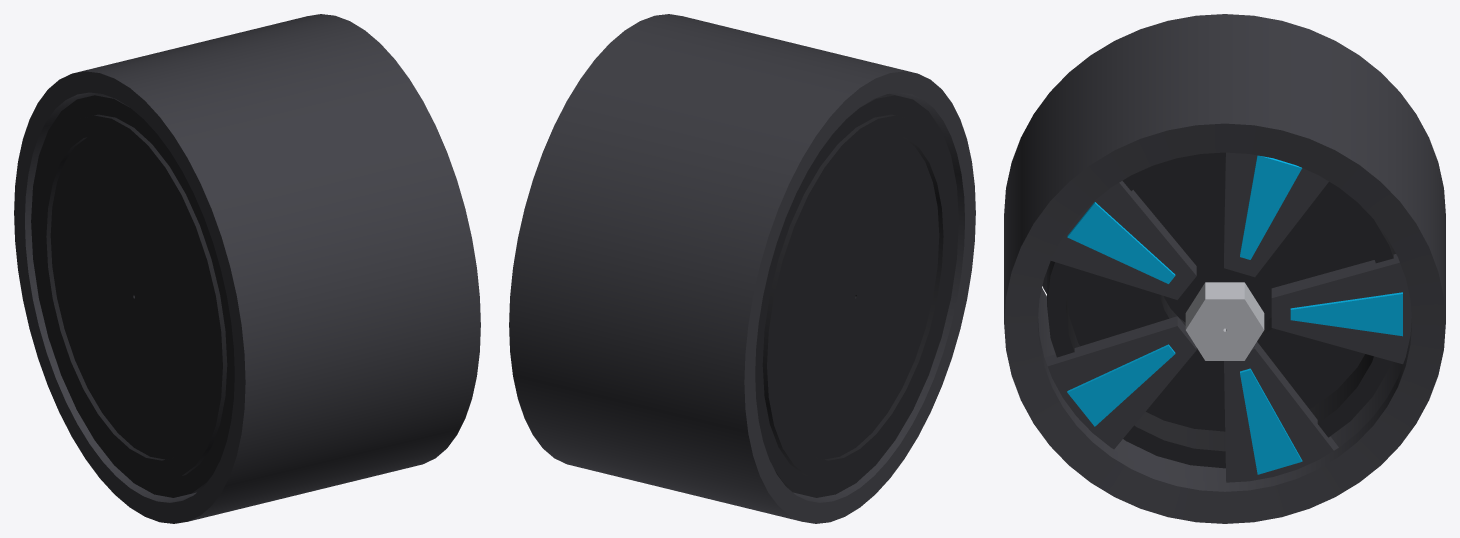
File: star_front.glb
3 renders of one model, left to right at view 1: azimuth 30°, elevation 25°; view 2: azimuth 150°, elevation 25°; view 3: azimuth 270°, elevation 25°, orthographic. The views are drawn at different scales.
Parts seen in each view (by area): view 1: Rim_star_front; view 2: Rim_star_front; view 3: Rim_star_front.
Part boxes in pixels (<box>): Rim_star_front: <box>14,14,480,523</box>; Rim_star_front: <box>509,14,975,523</box>; Rim_star_front: <box>1004,14,1445,523</box>.
Bounding box in the file's own units: 0.293 × 0.472 × 0.472.
